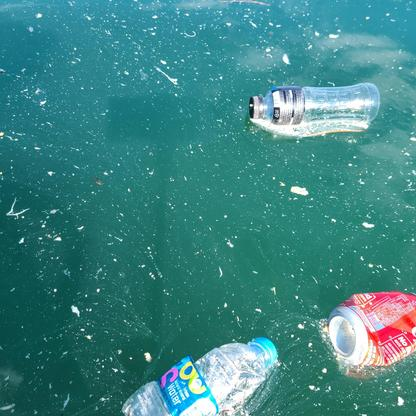can: (328, 292, 416, 367)
plastic bottle: (119, 337, 278, 416), (247, 83, 380, 122)
